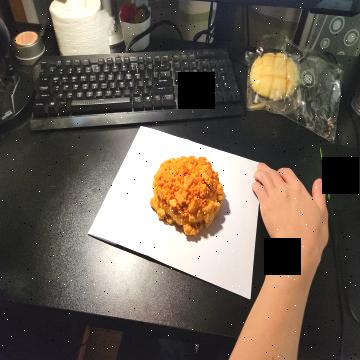soboru_bread: (151, 155, 225, 238)
